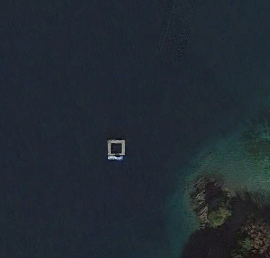square: (102, 135, 128, 162)
